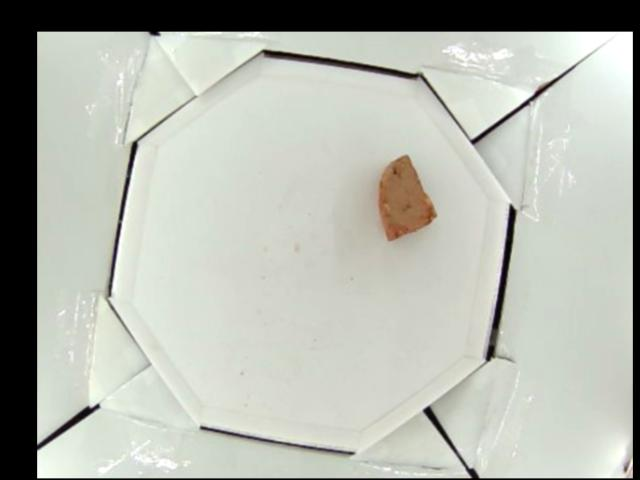Brisk: (379, 155, 438, 243)
